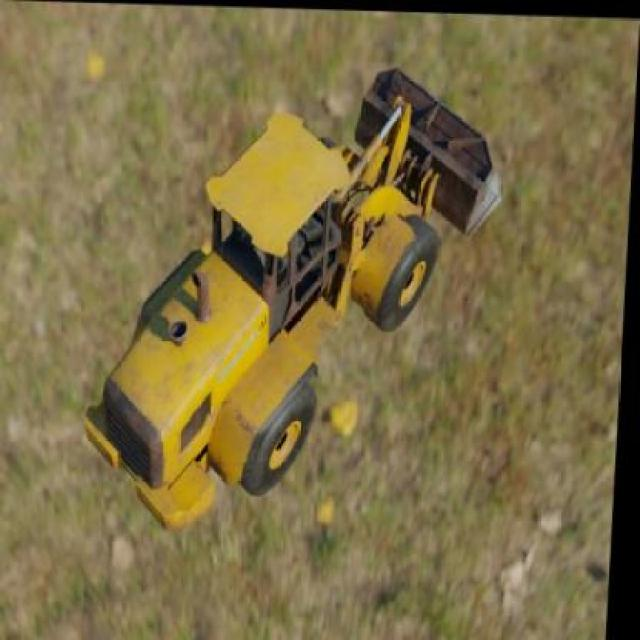buldozerpayloadergrader: (79, 63, 503, 534)
